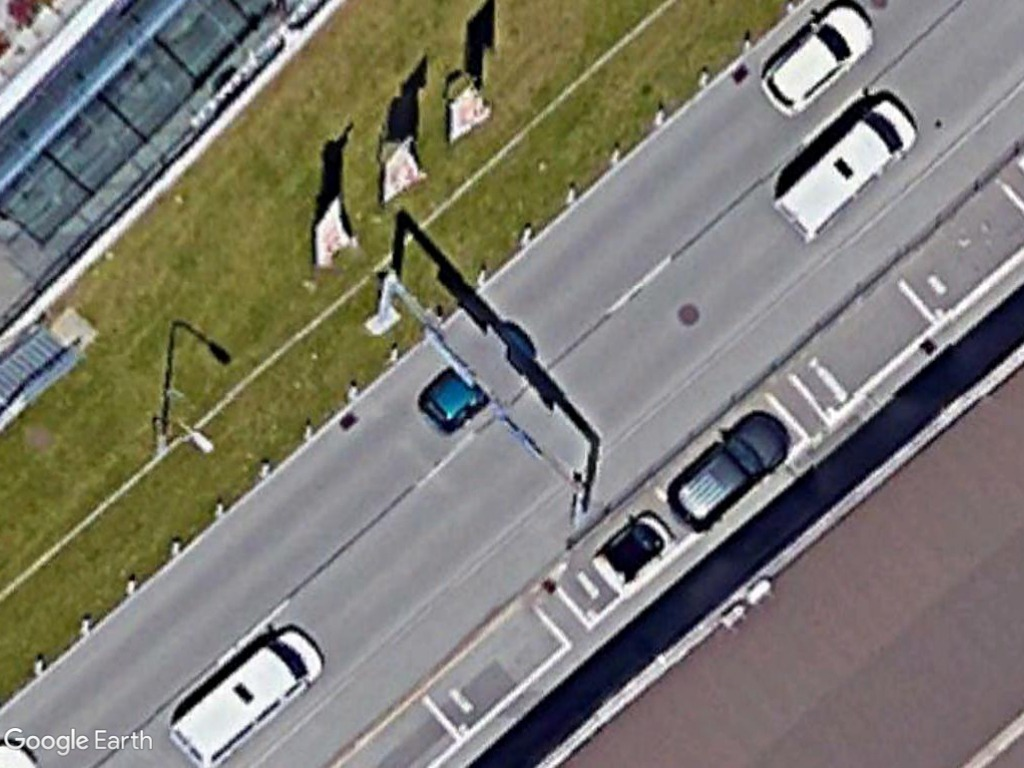car: (667, 410, 795, 532), (755, 1, 883, 118)
van: (167, 621, 325, 768), (773, 97, 922, 245)
